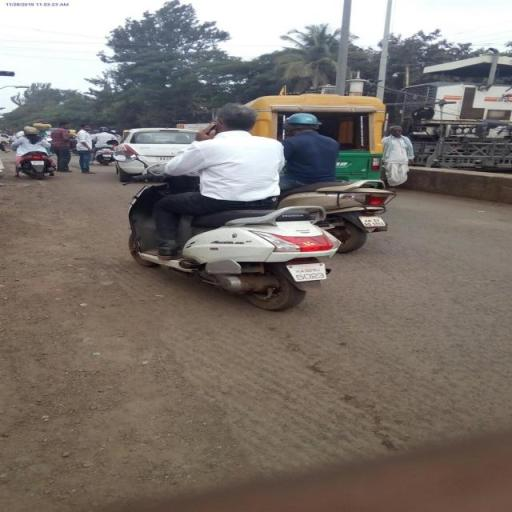bike: (110, 102, 341, 312)
numberplate: (286, 256, 330, 286)
using mobile: (195, 122, 220, 139)
withouthelmet: (216, 105, 257, 130)
